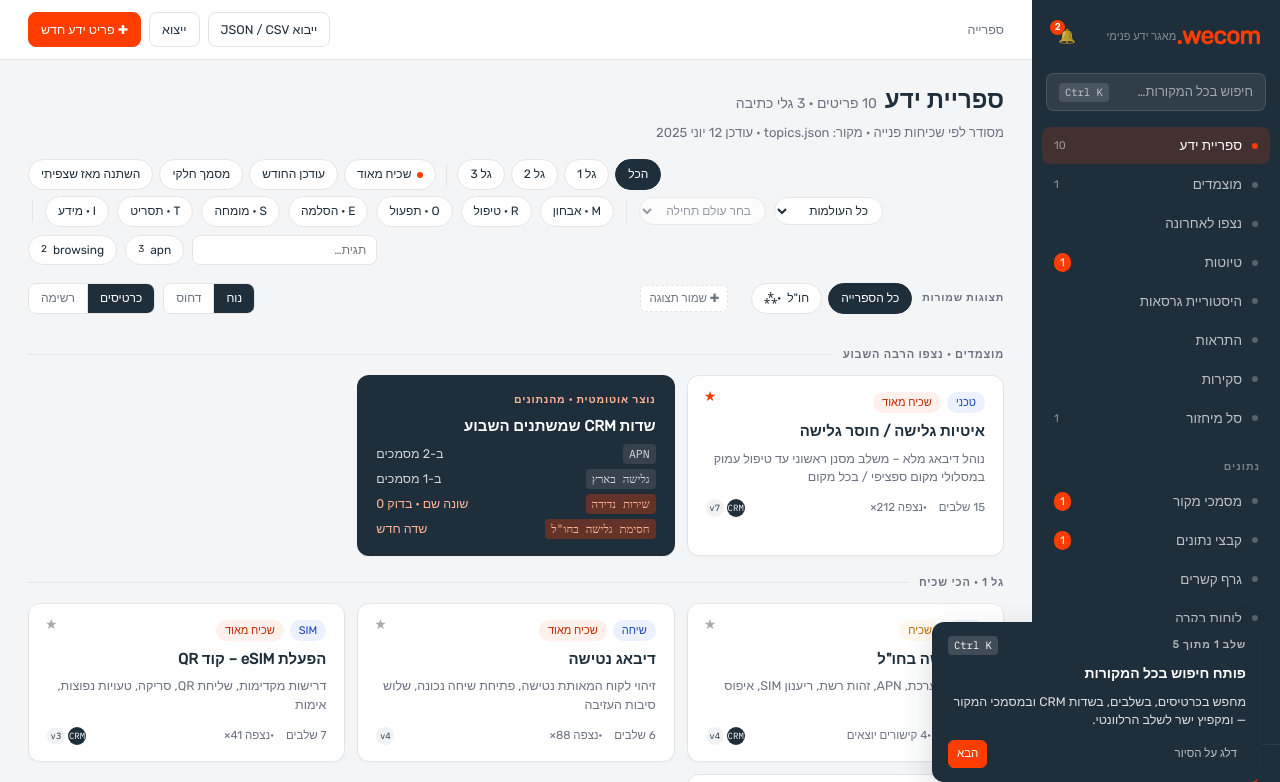
it: saved views › lists the saved views and applies one
Click the button named "תצוגה שמורה: חו\"ל": [787, 298] box [751,283,822,314]
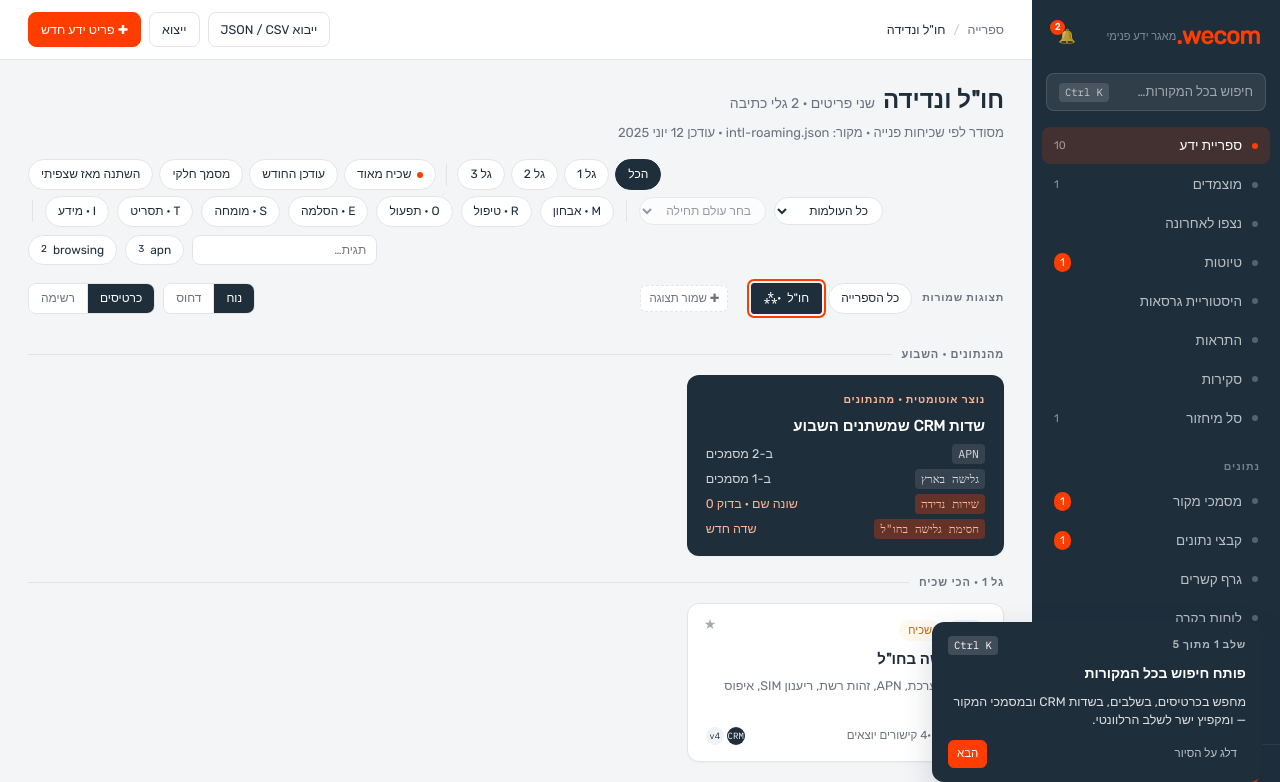
Check: the heading "חו\"ל ונדידה" is shown, box [730,86,1004,114]
